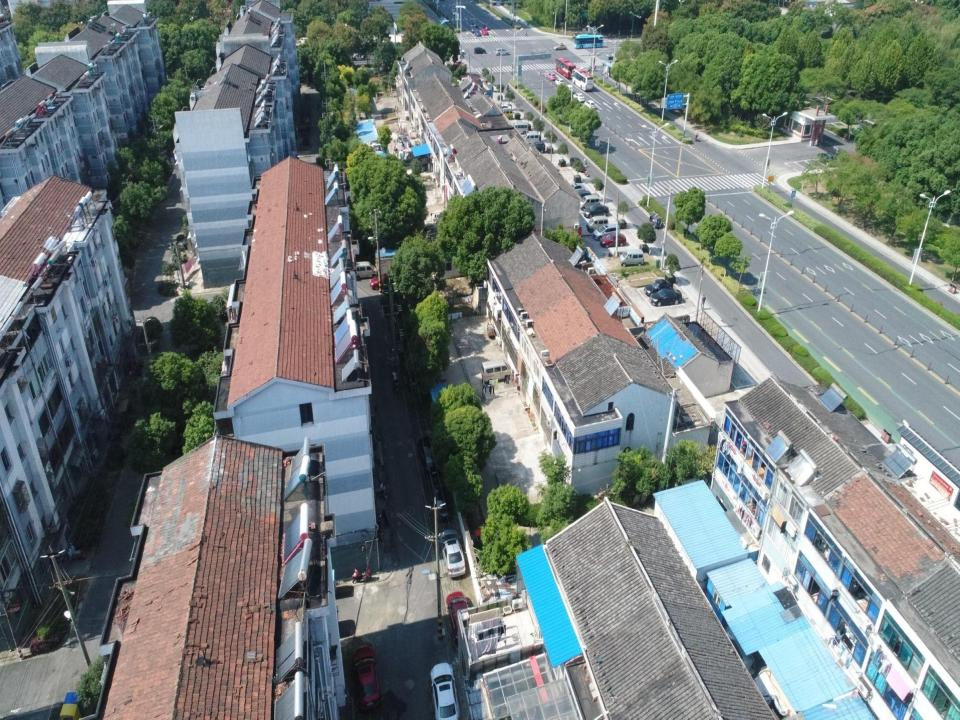bus: (572, 68, 593, 92), (554, 57, 576, 79), (572, 34, 604, 49)
car: (349, 640, 380, 711), (428, 660, 461, 719), (444, 590, 473, 648), (436, 528, 466, 580), (648, 287, 682, 307), (369, 271, 399, 291), (643, 278, 673, 296), (592, 222, 620, 241), (599, 232, 627, 248), (583, 204, 609, 218), (564, 182, 585, 196), (569, 156, 585, 172), (570, 190, 591, 202), (527, 140, 545, 154), (817, 152, 835, 165), (396, 134, 412, 148), (497, 103, 511, 113), (572, 92, 585, 102), (350, 52, 366, 60), (495, 47, 510, 55), (452, 46, 465, 55), (553, 43, 567, 51), (584, 100, 595, 110), (546, 71, 557, 81), (452, 60, 465, 68), (473, 46, 486, 54), (565, 84, 574, 93), (554, 78, 564, 86), (483, 22, 491, 30), (474, 28, 481, 37), (469, 24, 476, 33), (481, 28, 489, 35), (472, 20, 479, 27), (450, 10, 456, 16)
van: (480, 359, 513, 384), (350, 259, 377, 281), (619, 248, 645, 267), (577, 194, 600, 211), (586, 215, 608, 232), (509, 121, 528, 135), (522, 132, 540, 145), (498, 109, 513, 120)
